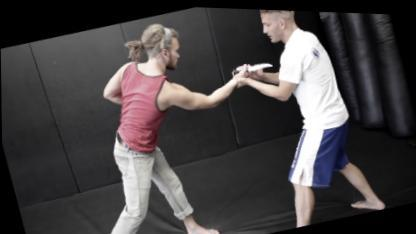knife: (225, 48, 277, 78)
